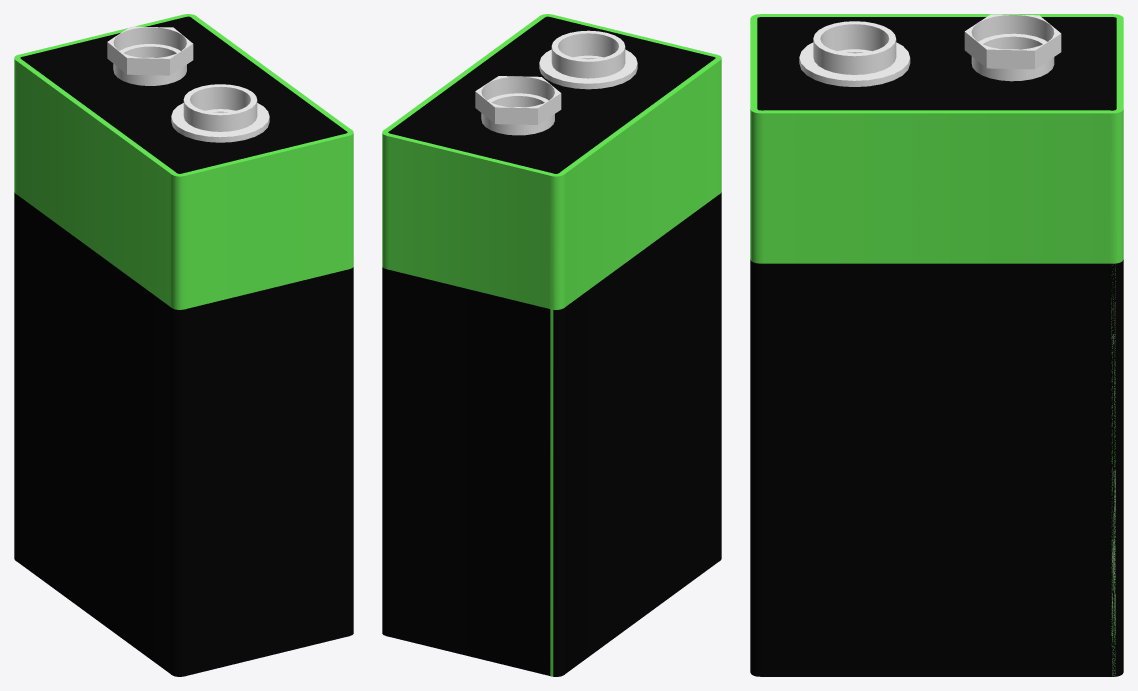
File: healthPowerPack.fbx
3 views of the same model, side by side, from view 1: azimuth 30°, elevation 25°; view 2: azimuth 150°, elevation 25°; view 3: azimuth 270°, elevation 25° (orthographic). The views are drawn at different scales.
Parts seen in each view (by area): view 1: polySurface202; view 2: polySurface202; view 3: polySurface202.
Boxes of the visible parts, left/top/right/bottom form: polySurface202: left=14, top=14, right=353, bottom=676; polySurface202: left=382, top=14, right=721, bottom=676; polySurface202: left=750, top=14, right=1123, bottom=676.
Bounding box in the file's own units: 5.07 × 14.14 × 8.05.
5 materials, 4 textured.
